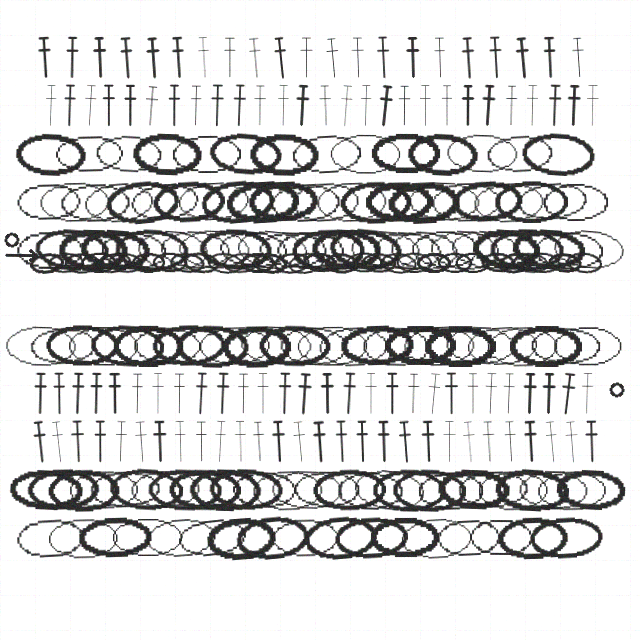chain: (350, 464, 429, 515), (233, 225, 312, 275), (104, 177, 182, 227), (447, 225, 525, 275), (173, 513, 250, 563), (199, 177, 277, 226), (550, 225, 628, 274), (126, 177, 202, 227), (513, 177, 590, 226), (134, 226, 212, 274), (327, 225, 403, 274), (234, 513, 310, 562), (302, 513, 378, 562), (520, 130, 597, 178), (33, 226, 110, 274), (347, 226, 424, 274), (207, 130, 283, 178), (81, 178, 157, 226), (369, 226, 445, 274), (493, 466, 570, 513), (78, 226, 153, 274), (387, 226, 462, 274), (143, 514, 218, 562), (204, 514, 279, 562), (288, 130, 364, 177), (175, 178, 251, 225), (224, 178, 300, 225), (427, 226, 503, 273), (510, 226, 586, 273), (108, 466, 184, 513), (464, 323, 541, 369), (528, 515, 605, 561), (288, 178, 363, 225), (450, 178, 525, 225), (215, 226, 290, 273), (12, 514, 87, 561), (471, 179, 547, 225), (114, 227, 190, 273), (89, 323, 165, 369), (333, 515, 409, 561), (398, 515, 474, 561), (151, 179, 226, 225), (267, 179, 342, 225), (157, 227, 232, 273), (316, 323, 391, 369), (8, 467, 83, 513), (470, 226, 543, 273), (3, 323, 79, 368), (14, 131, 88, 177), (92, 131, 166, 177), (406, 131, 480, 177), (483, 131, 557, 177), (386, 179, 460, 225), (97, 227, 171, 273), (554, 467, 628, 513), (444, 131, 519, 176), (406, 179, 481, 224), (429, 179, 504, 224), (176, 227, 251, 272), (489, 227, 564, 272), (151, 323, 226, 368), (238, 323, 313, 368), (339, 323, 414, 368), (401, 323, 476, 368), (443, 323, 518, 368), (26, 467, 101, 512), (87, 467, 162, 512), (128, 467, 203, 512), (188, 467, 263, 512), (208, 467, 283, 512), (455, 467, 530, 512), (516, 467, 591, 512), (77, 515, 152, 560), (27, 323, 100, 369), (269, 468, 345, 512), (37, 179, 111, 224), (314, 179, 388, 224), (198, 227, 272, 272), (277, 323, 351, 368), (436, 467, 510, 512), (496, 515, 570, 560), (433, 515, 505, 561), (57, 180, 132, 224), (291, 228, 366, 272), (485, 324, 560, 368), (147, 468, 222, 512), (372, 468, 447, 512), (131, 131, 204, 176), (247, 179, 320, 224), (57, 227, 130, 272), (310, 227, 383, 272), (339, 180, 413, 224), (255, 228, 329, 272), (531, 228, 605, 272), (175, 324, 249, 368), (197, 324, 271, 368), (258, 324, 332, 368), (528, 324, 602, 368), (47, 468, 121, 512), (67, 468, 141, 512), (250, 468, 324, 512), (312, 468, 386, 512), (392, 468, 466, 512), (535, 468, 609, 512), (328, 132, 403, 175), (45, 324, 120, 367), (66, 324, 141, 367), (295, 324, 370, 367), (110, 516, 185, 559), (52, 132, 125, 176), (248, 132, 321, 176), (131, 324, 204, 368), (360, 324, 433, 368), (168, 468, 241, 512), (334, 468, 407, 512), (476, 468, 549, 512), (46, 516, 119, 560), (269, 516, 342, 560), (169, 132, 243, 175), (494, 180, 568, 223), (508, 324, 582, 367), (13, 180, 85, 224), (221, 324, 293, 368), (415, 468, 487, 512), (13, 228, 86, 271), (273, 228, 346, 271), (409, 228, 482, 271), (112, 324, 185, 367), (383, 324, 456, 367), (423, 324, 496, 367), (364, 180, 435, 224), (229, 468, 300, 512), (370, 132, 442, 175), (540, 180, 612, 223), (551, 324, 623, 367), (291, 468, 363, 511), (369, 516, 441, 559), (466, 516, 537, 559), (496, 249, 535, 276), (95, 250, 133, 276), (287, 250, 325, 276), (182, 250, 220, 275), (565, 250, 603, 275), (206, 251, 245, 275), (28, 251, 65, 275), (47, 251, 84, 275), (107, 251, 144, 275), (223, 251, 260, 275), (251, 251, 288, 275), (273, 251, 310, 275), (380, 251, 417, 275), (512, 251, 549, 275), (169, 251, 205, 275), (547, 251, 583, 275), (524, 251, 561, 274), (302, 251, 338, 274), (480, 251, 516, 274), (64, 252, 100, 274), (361, 252, 397, 274), (324, 252, 359, 274), (81, 252, 117, 273), (152, 252, 188, 273), (346, 252, 382, 273), (396, 252, 432, 273), (437, 252, 473, 273), (455, 252, 491, 273), (131, 252, 166, 273), (240, 252, 275, 273), (416, 252, 451, 273)
half_double: (375, 84, 396, 128), (557, 372, 578, 416), (245, 36, 265, 80), (271, 36, 291, 80), (141, 84, 161, 128), (336, 84, 356, 128), (30, 420, 50, 464), (48, 420, 68, 464), (562, 420, 582, 464), (117, 36, 136, 80), (323, 36, 342, 80), (459, 36, 478, 80), (513, 36, 532, 80), (295, 372, 314, 416), (424, 372, 443, 416), (132, 420, 151, 464), (290, 420, 309, 464), (310, 420, 329, 464), (396, 420, 415, 464), (460, 420, 479, 464), (542, 420, 561, 464), (35, 36, 54, 79), (486, 36, 505, 79), (293, 84, 312, 127), (479, 84, 498, 127), (269, 420, 288, 463), (479, 420, 498, 463), (501, 420, 520, 463), (521, 420, 540, 463), (144, 36, 162, 80), (169, 36, 187, 79), (195, 36, 213, 79), (349, 36, 367, 79), (569, 36, 587, 79), (81, 84, 99, 127), (208, 84, 226, 127), (69, 372, 87, 415), (192, 372, 210, 415), (340, 372, 358, 415), (482, 372, 500, 415), (521, 372, 539, 415), (540, 372, 558, 415), (578, 372, 596, 415), (69, 420, 87, 463), (112, 420, 130, 463), (151, 420, 169, 463), (211, 420, 229, 463), (250, 420, 268, 463), (419, 420, 437, 463), (91, 36, 108, 79), (221, 36, 238, 79), (298, 36, 315, 79), (375, 36, 392, 79), (404, 36, 421, 79), (431, 36, 448, 79), (541, 36, 558, 79), (42, 84, 59, 127), (61, 84, 78, 127), (100, 84, 117, 127), (187, 84, 204, 127), (231, 84, 248, 127), (317, 84, 334, 127), (357, 84, 374, 127), (396, 84, 413, 127), (503, 84, 520, 127), (546, 84, 563, 127), (565, 84, 582, 127), (584, 84, 601, 127), (32, 372, 49, 415), (106, 372, 123, 415), (214, 372, 231, 415), (276, 372, 293, 415), (405, 372, 422, 415), (443, 372, 460, 415), (500, 372, 517, 415), (232, 420, 249, 463), (333, 420, 350, 463), (354, 420, 371, 463), (375, 420, 392, 463), (441, 420, 458, 463), (583, 420, 600, 463), (64, 36, 80, 79), (122, 84, 138, 127), (166, 84, 182, 127), (252, 84, 268, 127), (275, 84, 291, 127), (417, 84, 433, 127), (439, 84, 455, 127), (460, 84, 476, 127), (524, 84, 540, 127), (51, 372, 67, 415), (88, 372, 104, 415), (129, 372, 145, 415), (150, 372, 166, 415), (171, 372, 187, 415), (235, 372, 251, 415), (255, 372, 271, 415), (319, 372, 335, 415), (363, 372, 379, 415), (384, 372, 400, 415), (465, 372, 481, 415), (92, 420, 108, 463), (172, 420, 188, 463), (193, 420, 209, 463)
noise: (4, 248, 40, 262), (2, 230, 22, 250), (607, 380, 627, 400)
